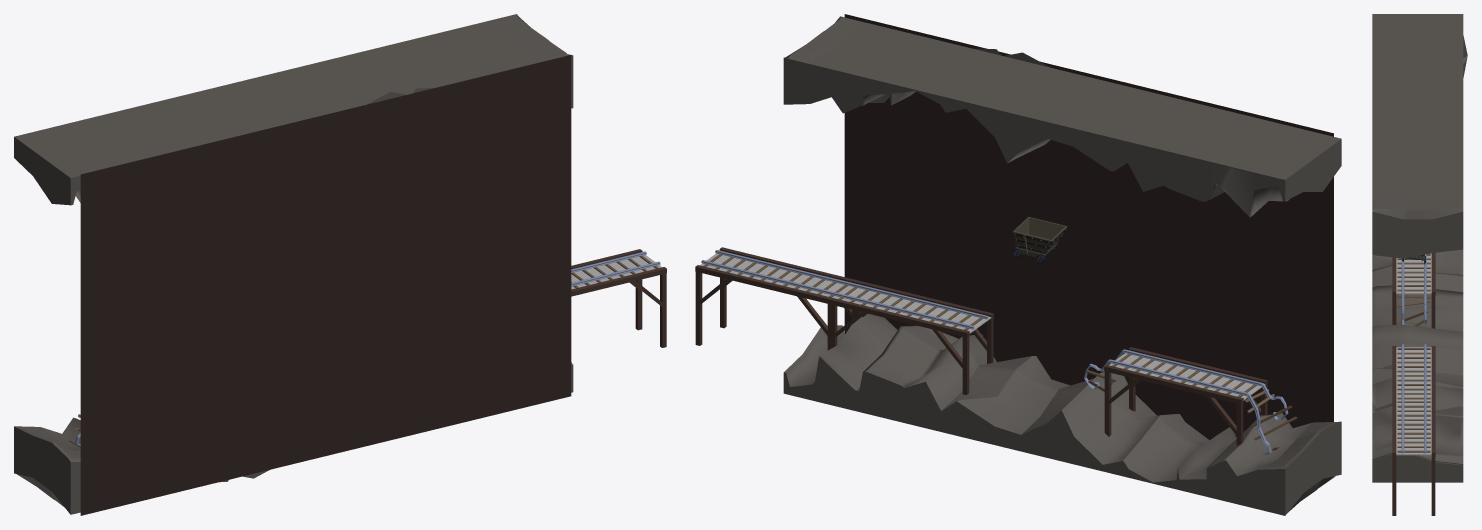
File: Train Tracks Day 2.fbx
3 renders of one model, left to right at view 1: azimuth 30°, elevation 25°; view 2: azimuth 150°, elevation 25°; view 3: azimuth 270°, elevation 25°, orthographic. The views are drawn at different scales.
Parts seen in each view (by area): view 1: pPlane1, pCube45, pCube44, pCube46, pCube30; view 2: pPlane1, pCube44, pCube45, pCube31 (×3), pCube41, pCube29, pCube46, pasted__pCube1; view 3: pCube45, pCube44, pCube46, pCube41, pCube29, pCube31 (×3), pCube30 (×3), pCube40 (×3), pCube35 (×2), pCube32 (×2), pCube15 (×2).
Part boxes in pixels (x1,y1,x2,y2): pPlane1: [80, 55, 571, 515]; pCube45: [14, 14, 573, 205]; pCube44: [14, 362, 573, 514]; pCube46: [571, 255, 661, 289]; pCube30: [571, 267, 666, 296]; pPlane1: [844, 14, 1333, 439]; pCube44: [783, 313, 1341, 515]; pCube45: [783, 16, 1341, 216]; pCube31 (×3): [695, 265, 1243, 404]; pCube41: [835, 286, 991, 333]; pCube29: [1109, 353, 1265, 400]; pCube46: [700, 253, 851, 298]; pasted__pCube1: [1012, 217, 1067, 254]; pCube45: [1372, 14, 1467, 258]; pCube44: [1372, 249, 1463, 482]; pCube46: [1396, 400, 1431, 455]; pCube41: [1396, 347, 1431, 401]; pCube29: [1396, 253, 1431, 294]; pCube31 (×3): [1431, 252, 1435, 456]; pCube30 (×3): [1392, 257, 1396, 456]; pCube40 (×3): [1401, 290, 1404, 453]; pCube35 (×2): [1431, 295, 1435, 515]; pCube32 (×2): [1392, 295, 1396, 515]; pCube15 (×2): [1424, 344, 1426, 453].
Size of the model in its own units: 106 by 59.07 by 18.28.
